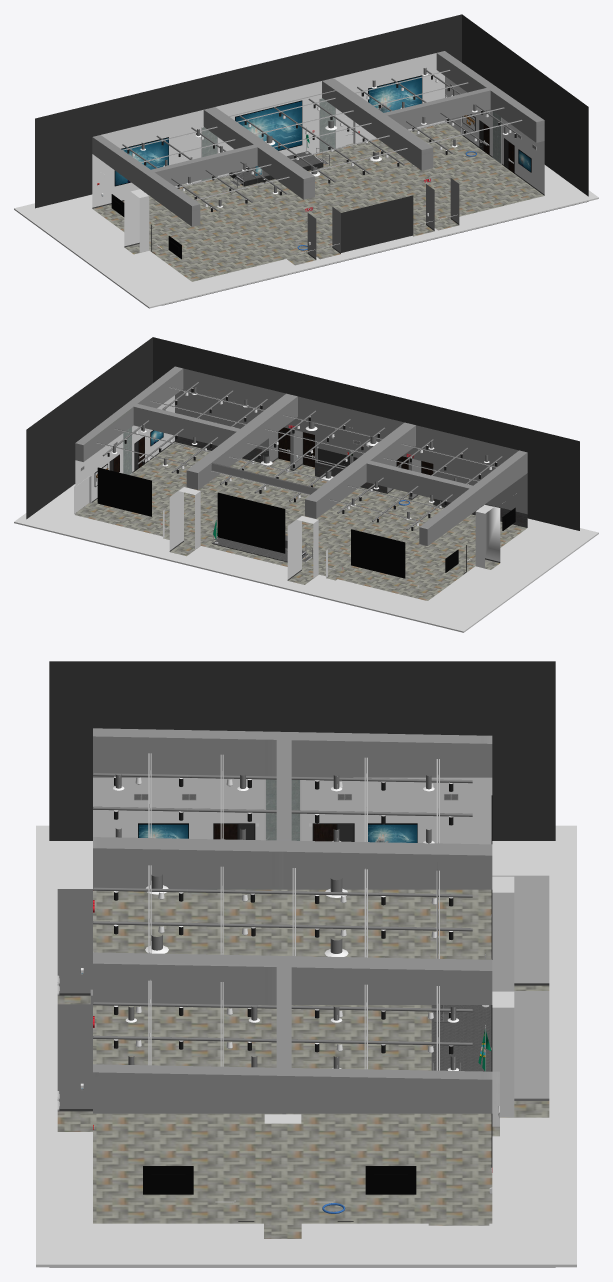
The model's file is corridorChemistry.glb.
The picture shows the model from 3 angles, top to bottom: view 1: azimuth 30°, elevation 25°; view 2: azimuth 150°, elevation 25°; view 3: azimuth 270°, elevation 25°; orthographic projection. The views are drawn at different scales.
Visible parts, largest first — view 1: 3DGeom-7931_9, Floor_10, Roof_Support_41, Cube, WhiteWalls1_55, 3DGeom-229_8, Struts_Small_52, SoundProof_RoomDividers_50, Large_Screen_01_43, Electrical_Pipes_25, 3DGeom-222_4, Large_Screen_03_45 (+4 smaller); view 2: 3DGeom-7931_9, Floor_10, Cube, Roof_Support_41, 3DGeom-222_4, WhiteWalls1_55, Large_Screen_01_43, Struts_Small_52, Large_Screen_02_44, Large_Screen_03_45, Electrical_Pipes_25, SoundProof_RoomDividers_50 (+8 smaller); view 3: Floor_10, Roof_Support_41, Cube, 3DGeom-7931_9, WhiteWalls1_55, Electrical_Pipes_25, 3DGeom-222_4, SoundProof_RoomDividers_50, Struts_Small_52, Stage_51, OVH_AirVents_37, OVH_Lights_38 (+5 smaller).
Part boxes in pixels (bbox=[...]): 3DGeom-7931_9: bbox=[35, 14, 588, 305]; Floor_10: bbox=[93, 123, 544, 281]; Roof_Support_41: bbox=[92, 51, 544, 226]; Cube: bbox=[14, 165, 598, 308]; WhiteWalls1_55: bbox=[92, 53, 544, 246]; 3DGeom-229_8: bbox=[341, 195, 413, 252]; Struts_Small_52: bbox=[122, 70, 522, 200]; SoundProof_RoomDividers_50: bbox=[131, 98, 501, 252]; Large_Screen_01_43: bbox=[235, 100, 302, 150]; Electrical_Pipes_25: bbox=[122, 70, 521, 211]; 3DGeom-222_4: bbox=[307, 178, 459, 258]; Large_Screen_03_45: bbox=[368, 75, 422, 112]; 3DGeom-7931_9: bbox=[26, 337, 579, 530]; Floor_10: bbox=[74, 442, 526, 600]; Cube: bbox=[14, 484, 598, 632]; Roof_Support_41: bbox=[75, 366, 527, 545]; 3DGeom-222_4: bbox=[175, 368, 527, 514]; WhiteWalls1_55: bbox=[74, 395, 500, 579]; Large_Screen_01_43: bbox=[217, 492, 285, 553]; Struts_Small_52: bbox=[97, 387, 496, 522]; Large_Screen_02_44: bbox=[351, 529, 405, 578]; Large_Screen_03_45: bbox=[97, 467, 151, 516]; Electrical_Pipes_25: bbox=[102, 382, 502, 530]; SoundProof_RoomDividers_50: bbox=[123, 427, 493, 577]; Floor_10: bbox=[57, 889, 549, 1238]; Roof_Support_41: bbox=[93, 728, 492, 1114]; Cube: bbox=[36, 825, 576, 1267]; 3DGeom-7931_9: bbox=[49, 661, 555, 1267]; WhiteWalls1_55: bbox=[93, 777, 549, 1126]; Electrical_Pipes_25: bbox=[93, 770, 472, 1045]; 3DGeom-222_4: bbox=[57, 889, 92, 1108]; SoundProof_RoomDividers_50: bbox=[264, 779, 514, 1123]; Struts_Small_52: bbox=[148, 753, 439, 1070]; Stage_51: bbox=[431, 1005, 491, 1071]; OVH_AirVents_37: bbox=[113, 774, 458, 1070]; OVH_Lights_38: bbox=[114, 776, 453, 1054].
Bounding box in the file's own units: 41.73 × 8.39 × 21.73.
19 materials, 8 textured.
